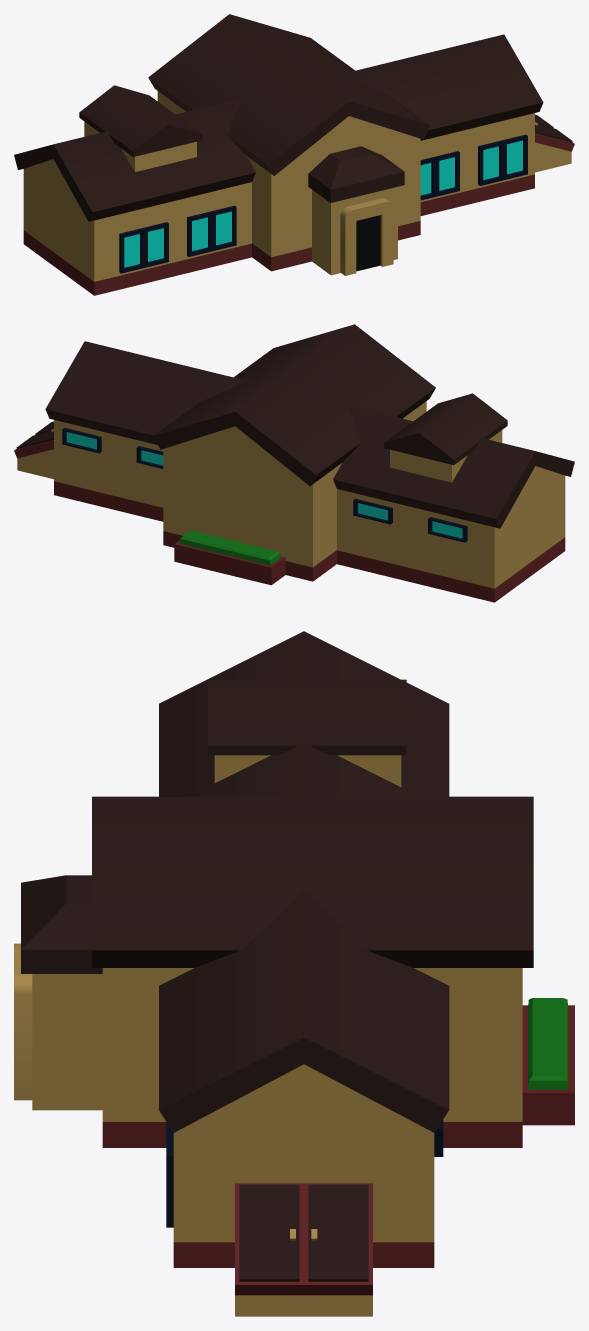
Rendered from House_7.fbx.
3 renders of one model, top to bottom at view 1: azimuth 30°, elevation 25°; view 2: azimuth 150°, elevation 25°; view 3: azimuth 270°, elevation 25°, orthographic. The views are drawn at different scales.
Visible parts, largest first — view 1: House_7; view 2: House_7; view 3: House_7.
Part boxes in pixels (x1,y1,x2,y2): House_7: (14,14,574,295); House_7: (14,324,574,602); House_7: (14,631,574,1316).
Size of the model in its own units: 99.1 by 29.01 by 51.83.
